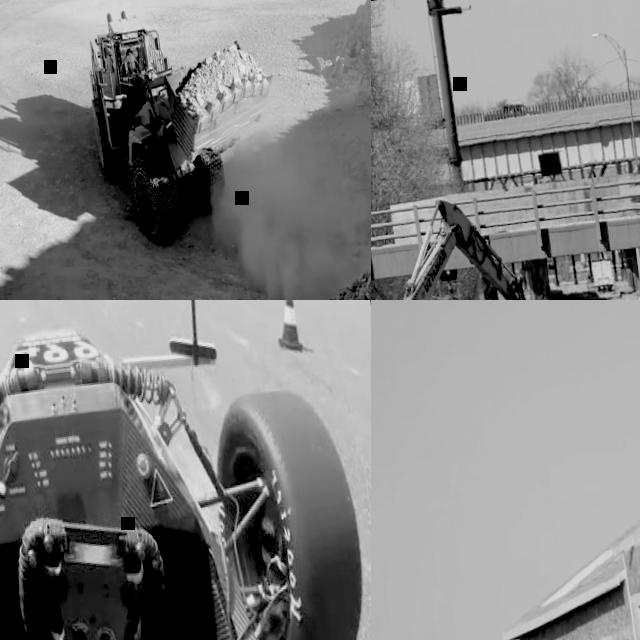NO-Hardhat: (125, 49, 131, 54)
NO-Safety Vest: (126, 57, 136, 71)
Person: (123, 49, 140, 71)
Safety Cone: (274, 300, 306, 350), (623, 292, 628, 300)
machinery: (72, 0, 293, 252), (371, 188, 552, 300)
vehicle: (0, 300, 371, 640), (383, 70, 443, 132), (474, 101, 537, 123), (588, 259, 614, 293)
